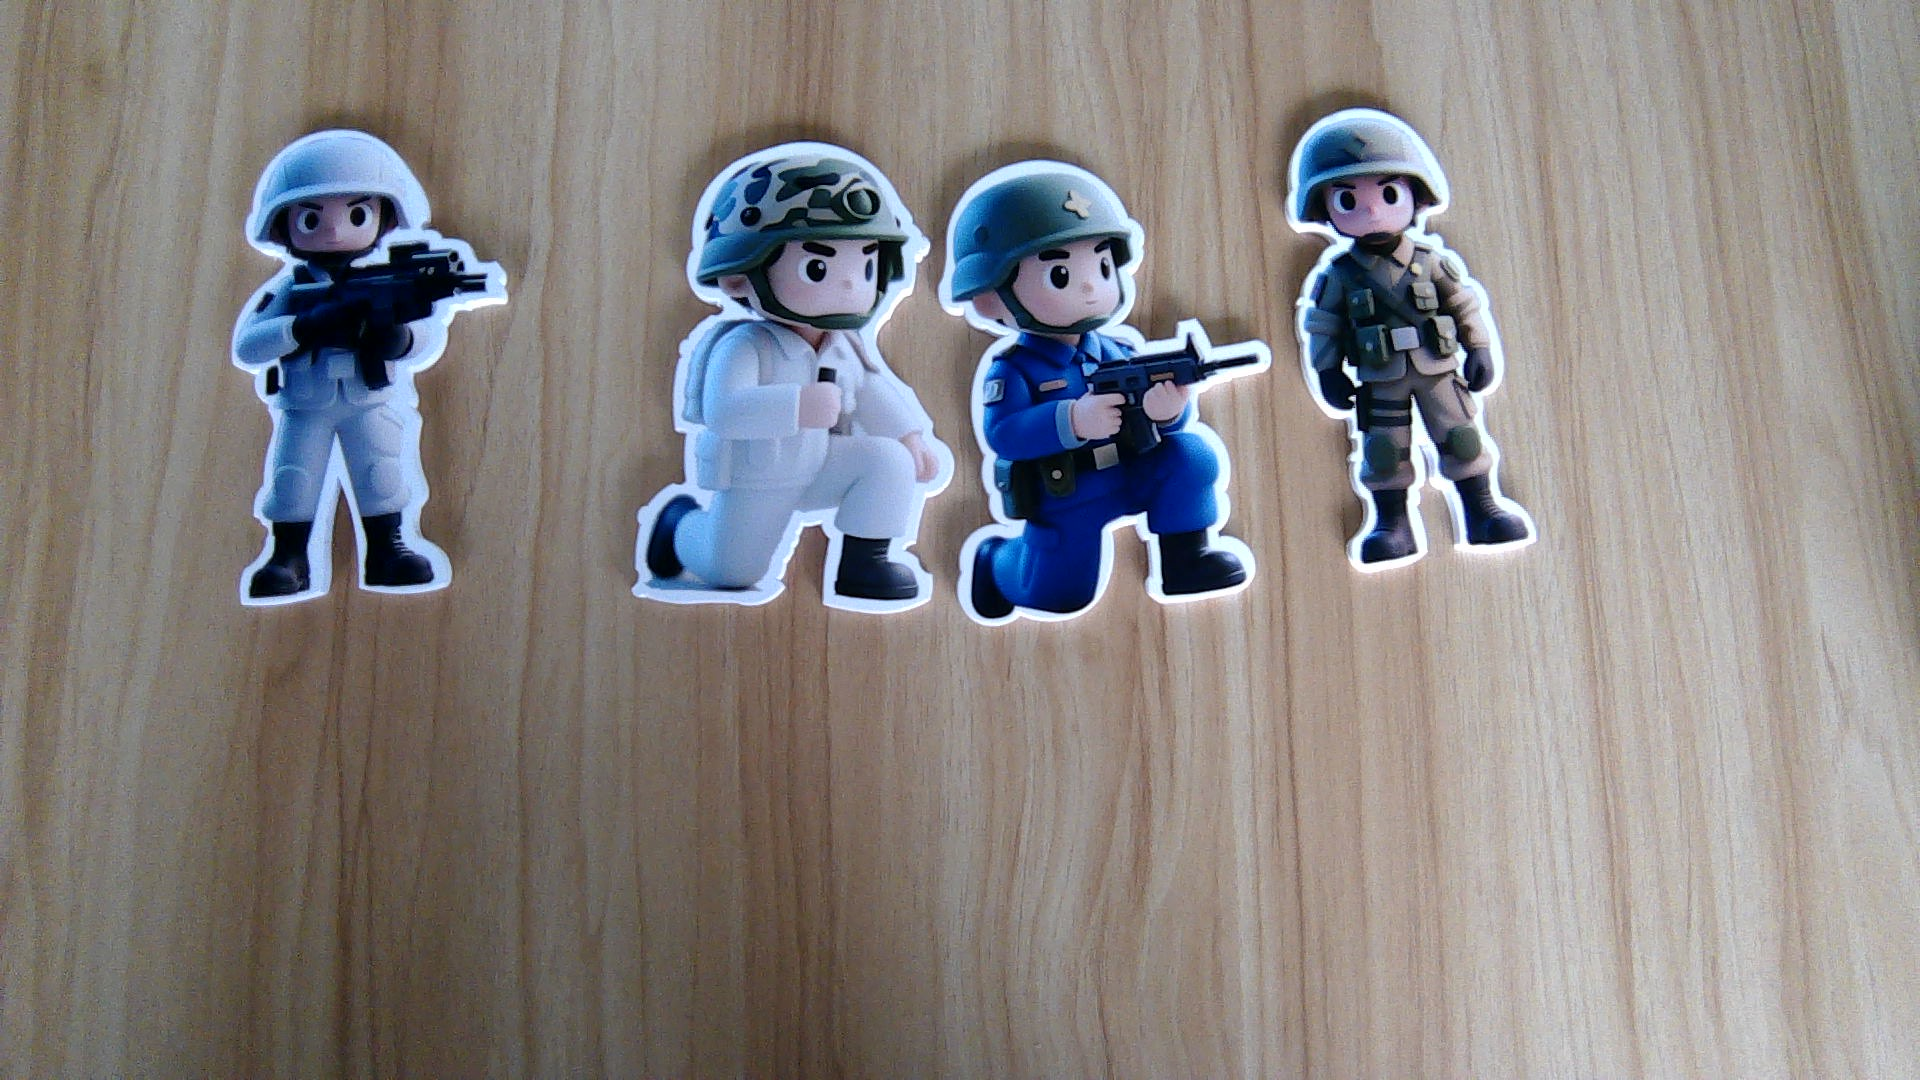人质: (222, 264, 509, 607), (626, 324, 949, 621)
友军: (1292, 237, 1549, 574)
敌人2: (963, 342, 1269, 628)
